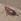cockroach: (4, 6, 16, 16)
